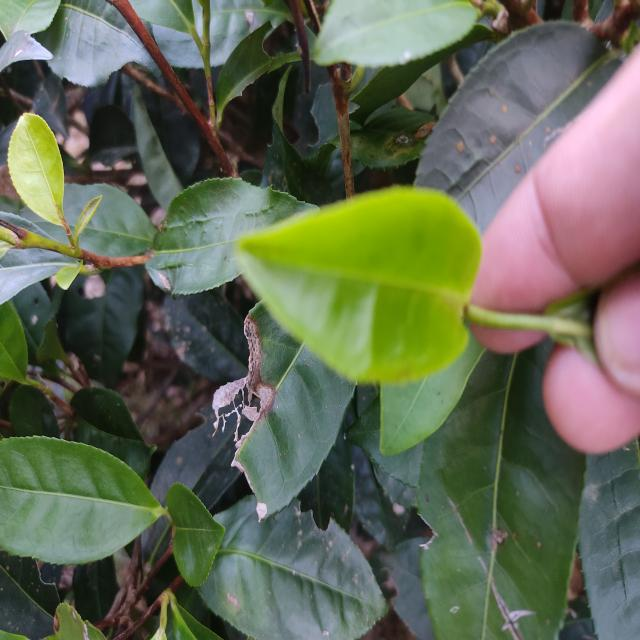Category C(4-7 days): (215, 175, 498, 409)
